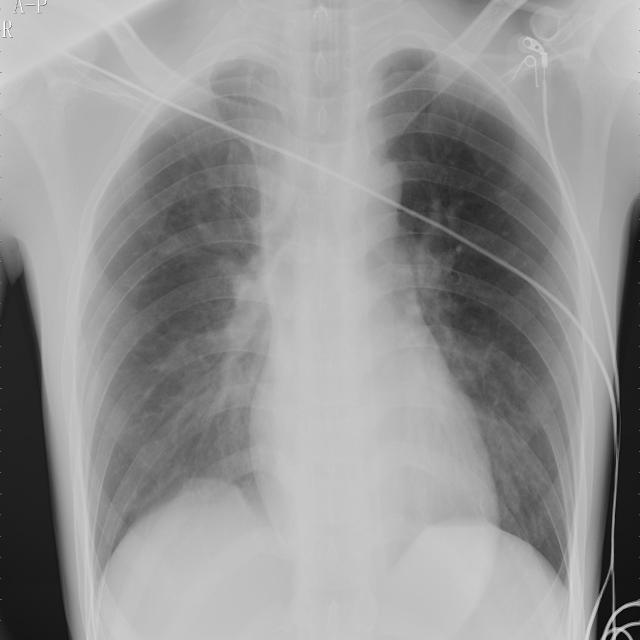low-pneumonia: (407, 203, 511, 426), (199, 264, 276, 458)
